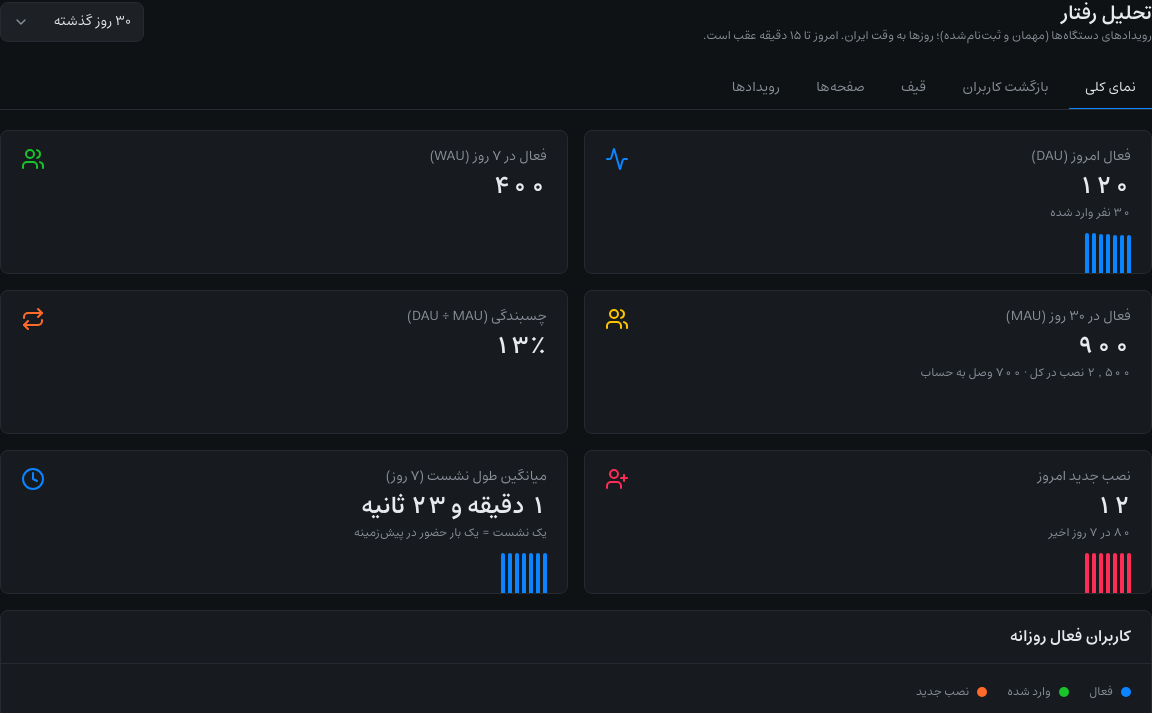
Scenario: Analytics › draws the retention heat map with per-day percentages and an average row
Click the tab "بازگشت کاربران".
click(1005, 89)  # box [946,68,1065,110]
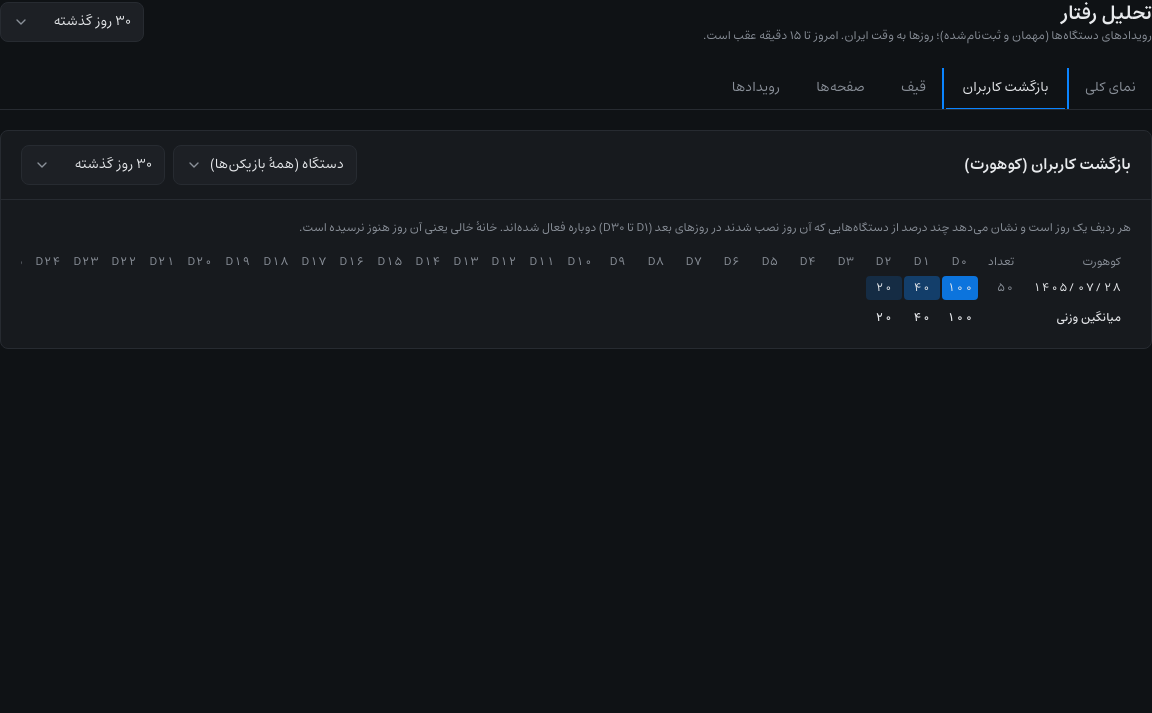
expect the text "۴۰" in the row of "۱۴۰۵/۰۷/۲۸" is shown: met, box [913,279,931,297]
expect the text "۲۰" in the row of "۱۴۰۵/۰۷/۲۸" is shown: met, box [875,279,893,297]
expect the text "میانگین وزنی" is shown: met, box [980,302,1129,326]
